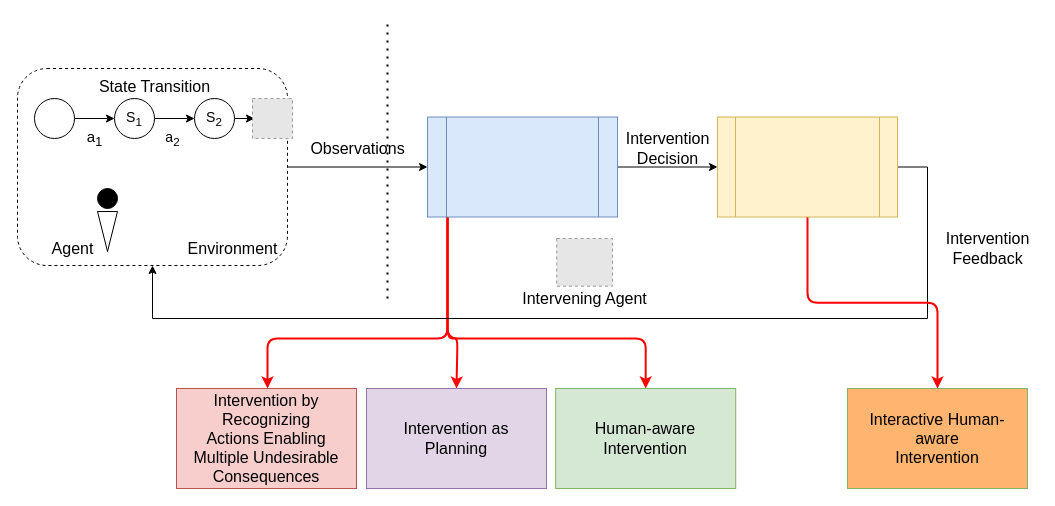
This 1055x506 diagram has some shape labels left out. Grey dashed boxes stand in for pictures. The centre of each missing label's shape, as x and y in pixels:
"Recovery Process" belongs at point 807,166.
"S 0" belongs at point 54,118.
"The Intervention Recognition Process" belongs at point 522,166.
